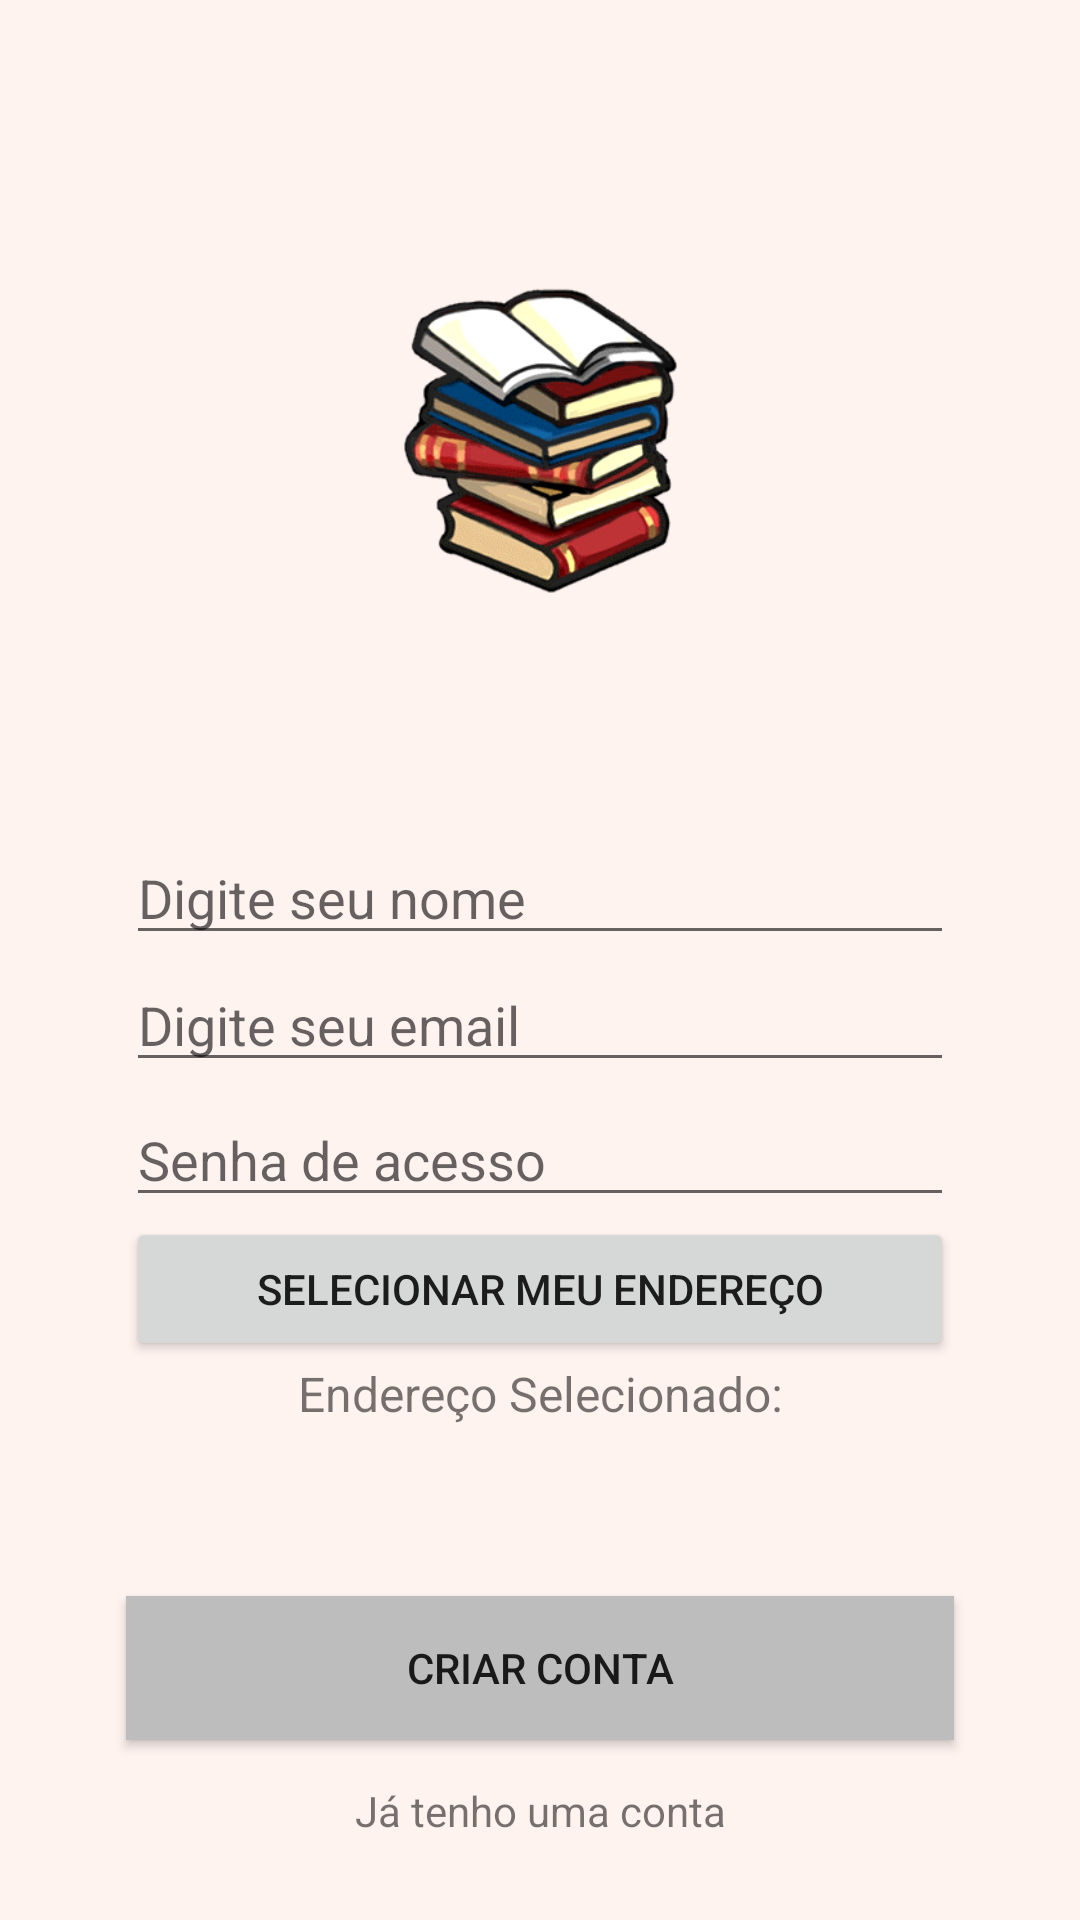

Named icons in this screenshot (1080 × 1920) and their centers, [x,y]:
Livros empilhados: [540,441]
